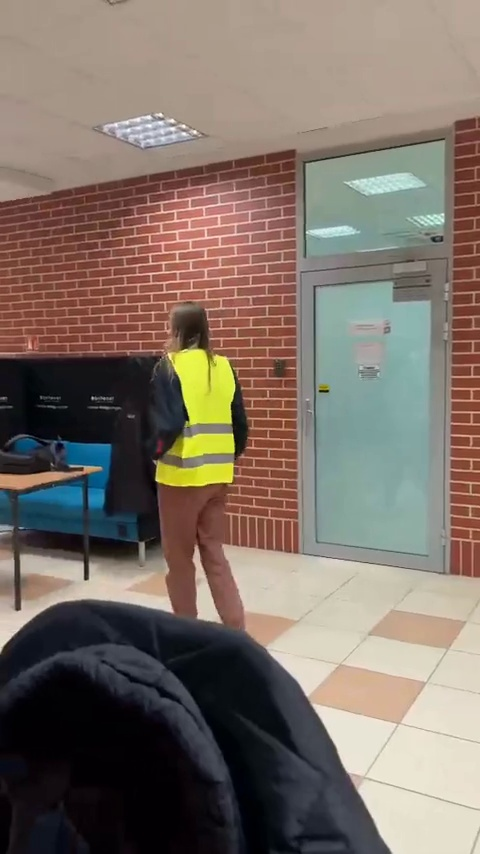vest: (141, 305, 262, 621)
